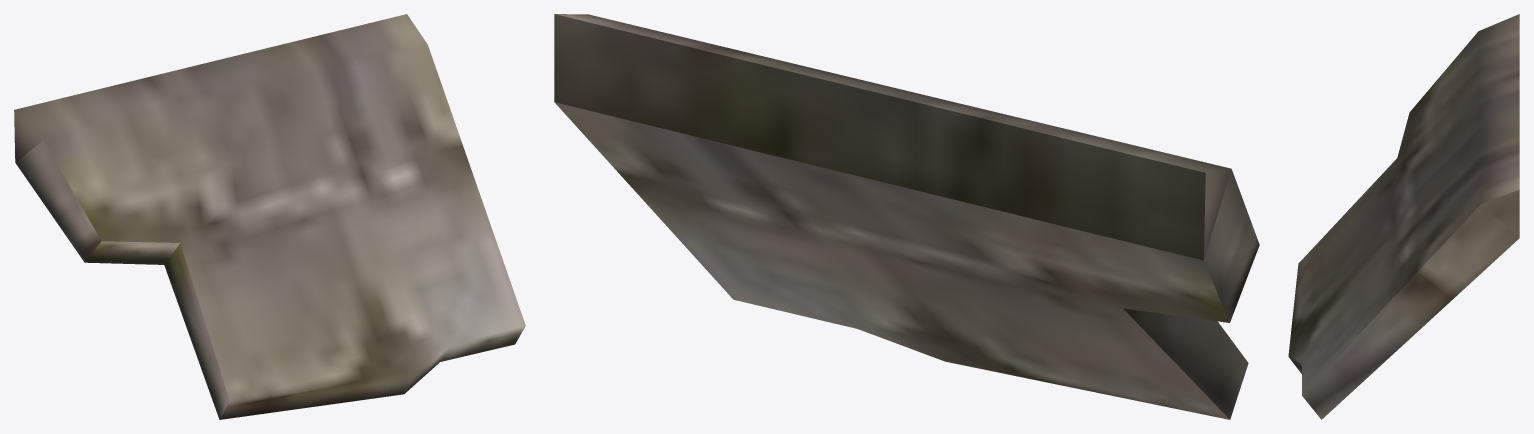
Rendered from roof.wood.top.line.end.left.glb.
The picture shows the model from 3 angles, left to right: view 1: azimuth 30°, elevation 25°; view 2: azimuth 150°, elevation 25°; view 3: azimuth 270°, elevation 25°; orthographic projection. The views are drawn at different scales.
Visible parts, largest first — view 1: LOD0; view 2: LOD0; view 3: LOD0.
Part boxes in pixels (x1,y1,x2,y2): LOD0: (14,14,525,419); LOD0: (554,14,1259,419); LOD0: (1288,14,1519,419).
Bounding box in the file's own units: 0.9001 × 0.5821 × 0.5005.
1 material, 1 textured.
